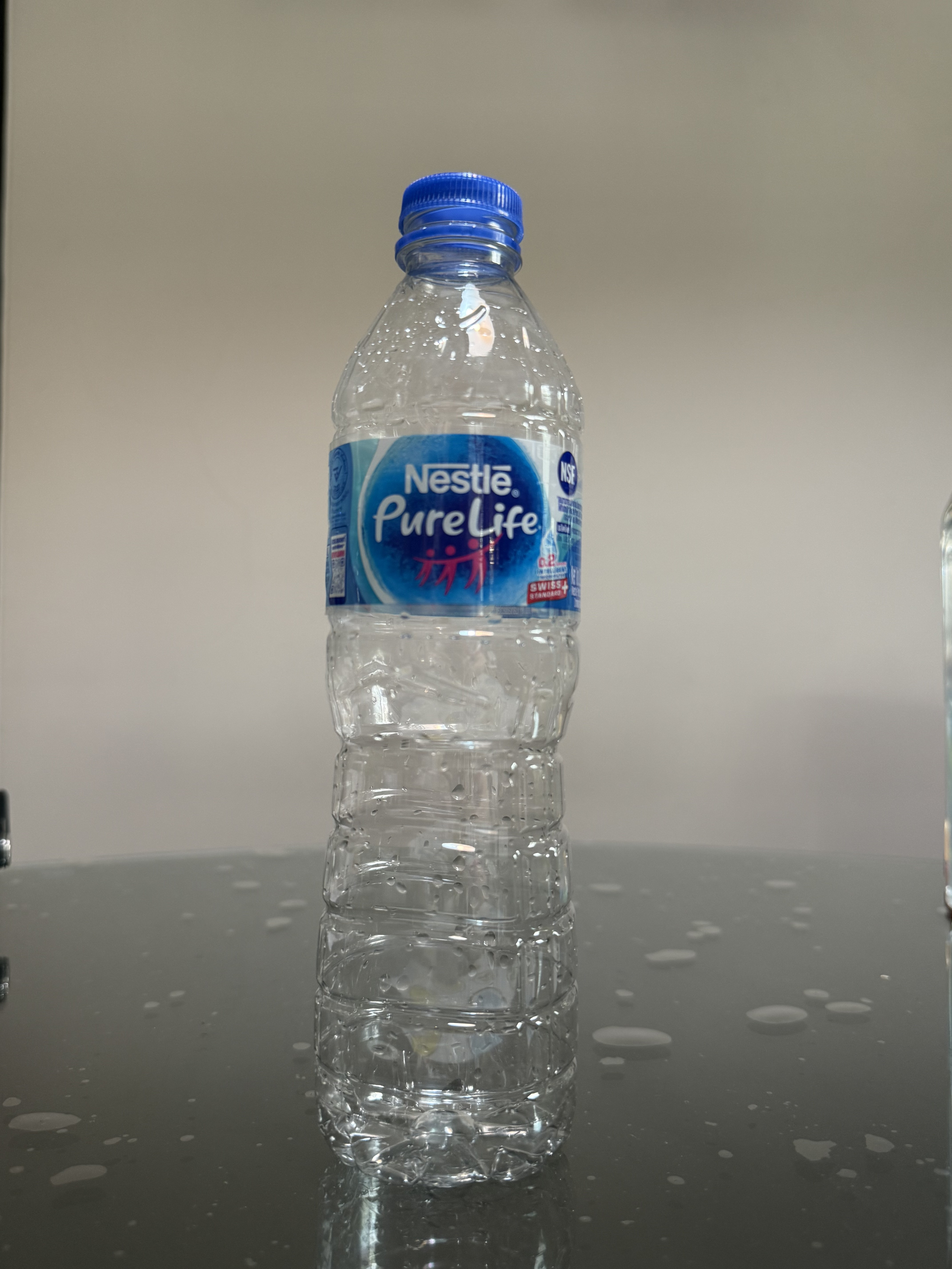half_cap: (393, 168, 525, 274)
